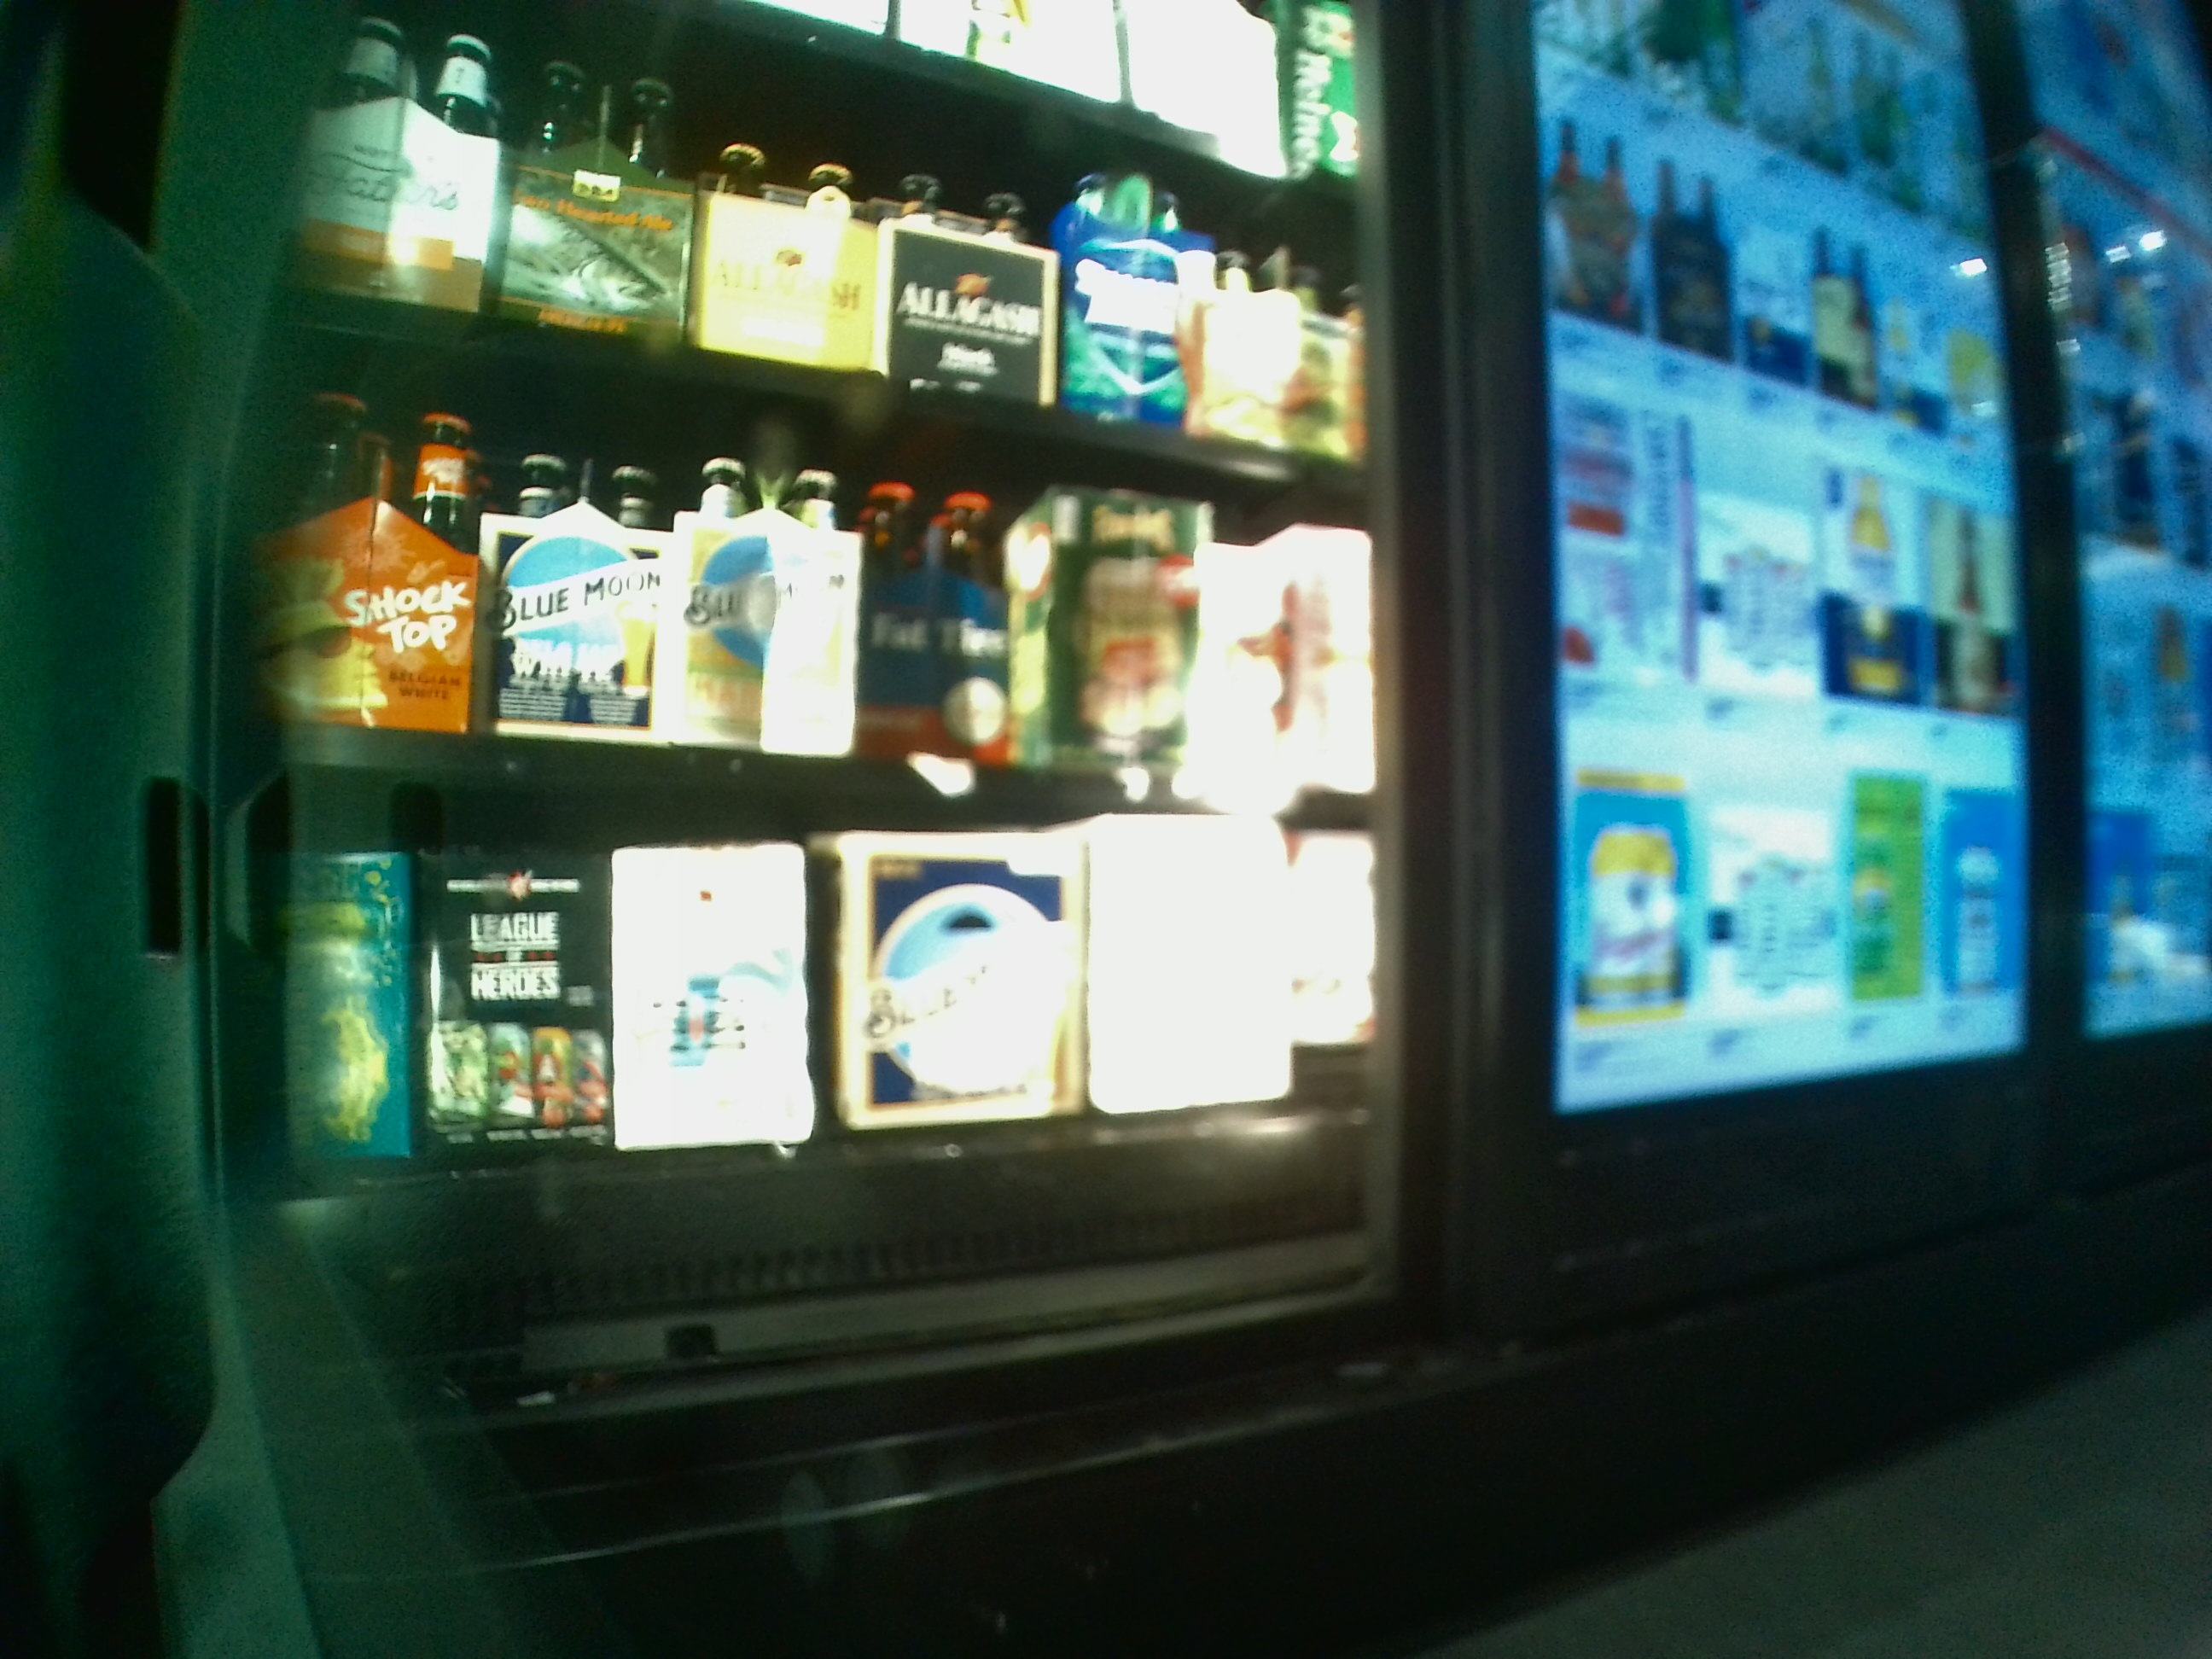shelf: (254, 335, 1367, 814), (254, 824, 1378, 1265)
